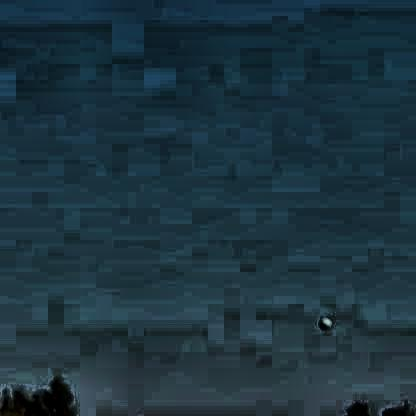golfball: (314, 315, 328, 328)
